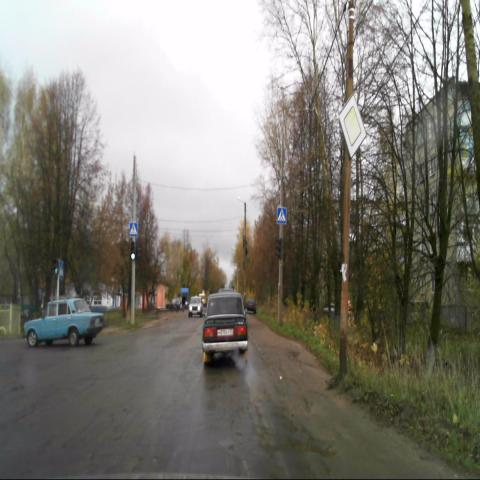2_1: (338, 93, 366, 159)
5_19_1: (276, 207, 286, 224), (129, 222, 138, 236), (58, 259, 64, 279)
